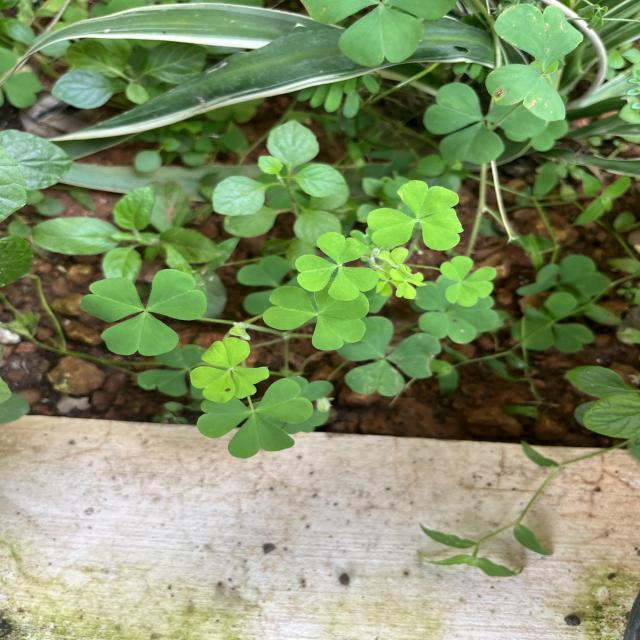Oxalis corniculata: (78, 266, 208, 357), (196, 378, 314, 458), (366, 178, 464, 252), (263, 285, 372, 351), (295, 231, 381, 302), (189, 336, 272, 404), (439, 254, 496, 306)
